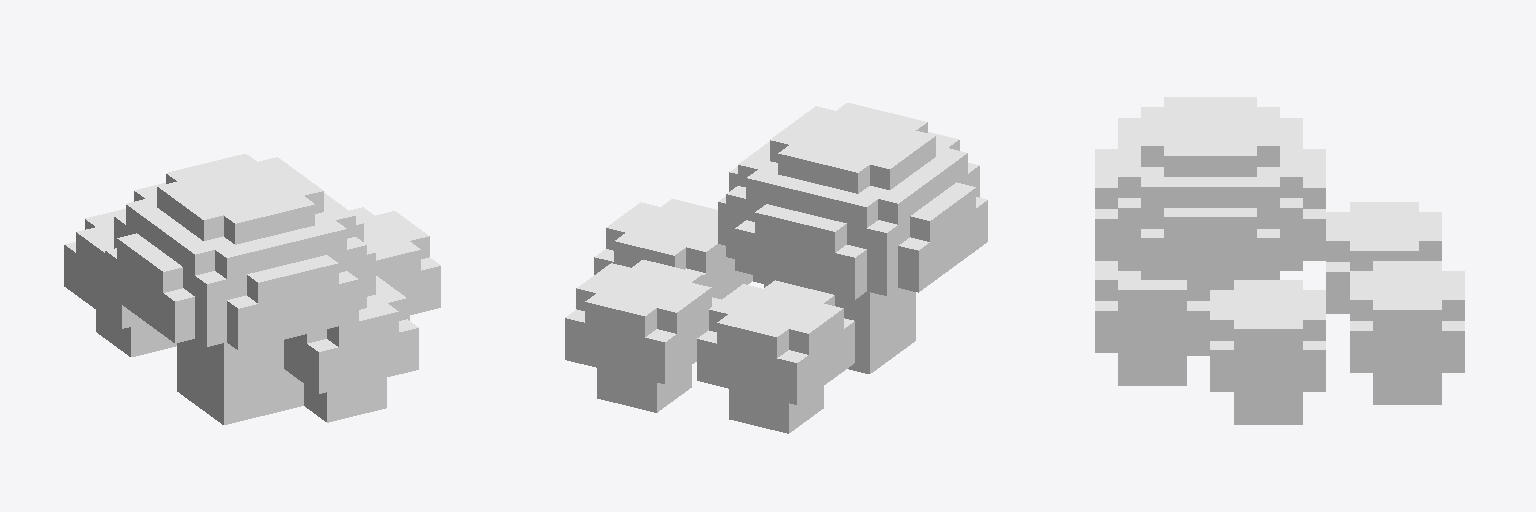
The model's file is cogumelos-0.obj.
3 views of the same model, side by side, from view 1: azimuth 30°, elevation 25°; view 2: azimuth 150°, elevation 25°; view 3: azimuth 270°, elevation 25° (orthographic).
Visible parts, largest first — view 1: object 1; view 2: object 1; view 3: object 1.
Part boxes in pixels (x1,y1,x2,y2): object 1: (64, 154, 440, 424); object 1: (565, 103, 987, 433); object 1: (1095, 97, 1464, 424).
Size of the model in its own units: 1.5 by 1 by 1.6.